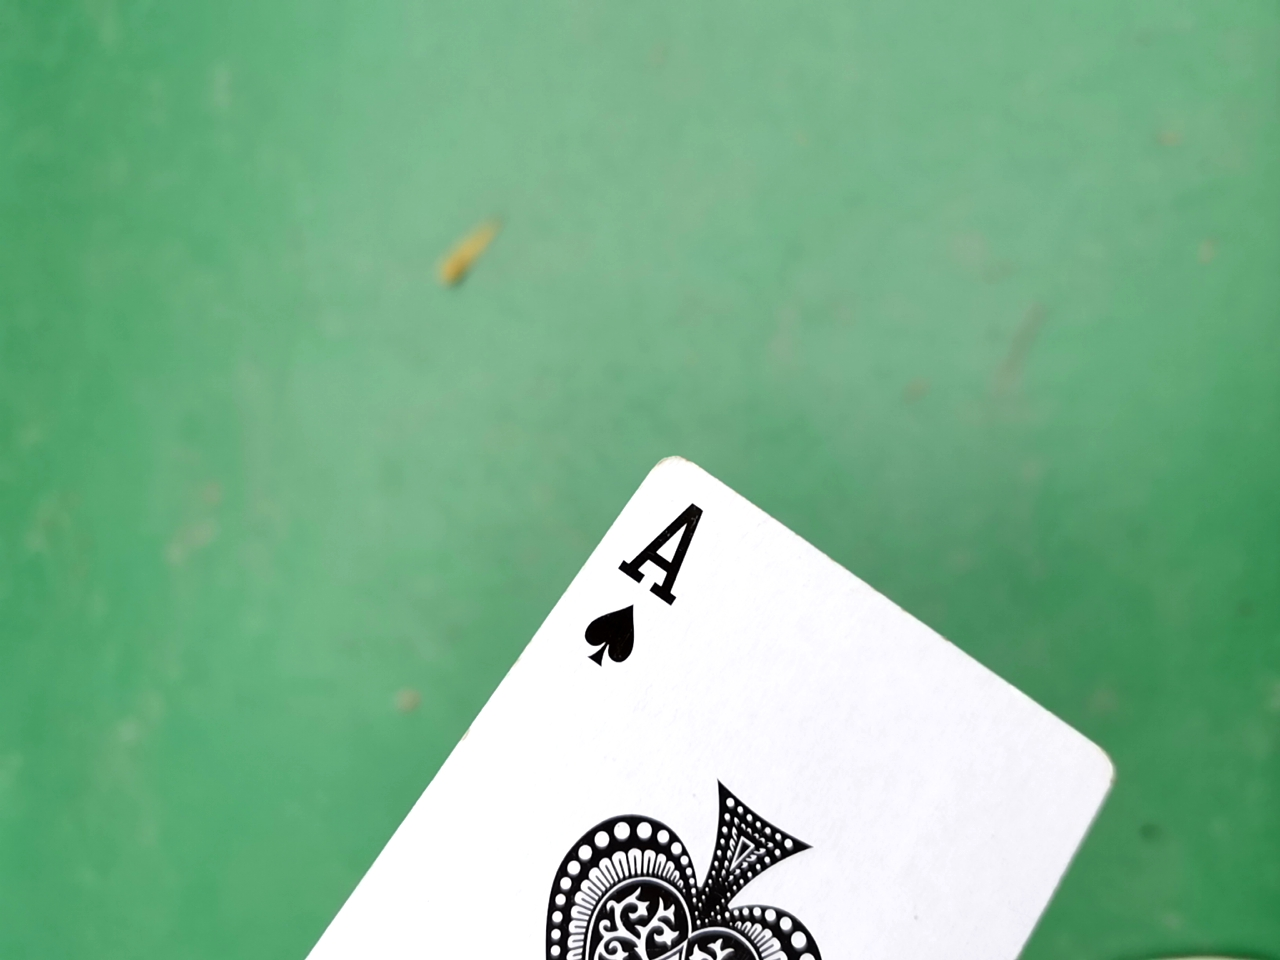ht a: (45, 453, 1098, 953)
